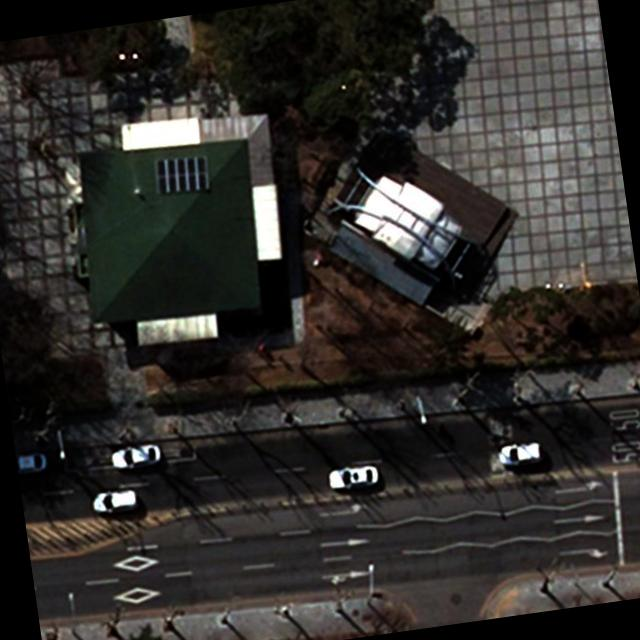solar: (153, 152, 214, 199)
